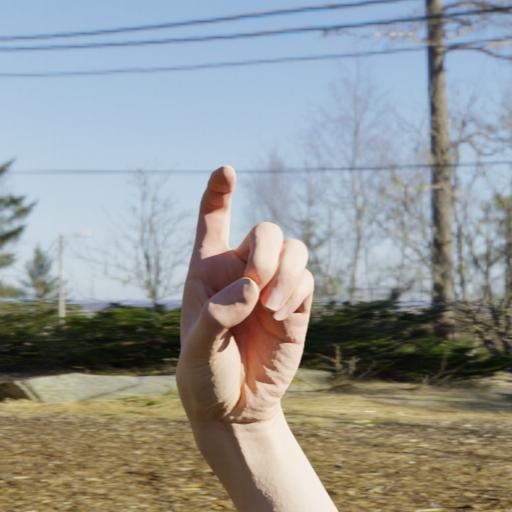X: (164, 159, 328, 488)
